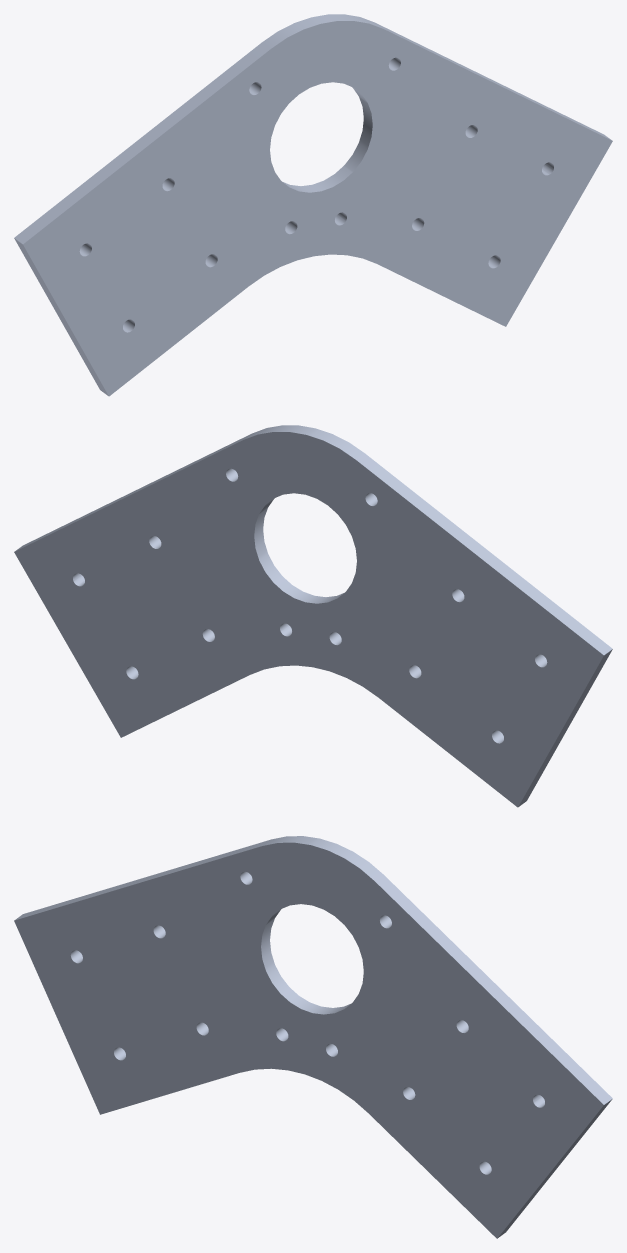
Rendered from Rocker_Connection_Plate_1_0_2.dae.
3 renders of one model, top to bottom at view 1: azimuth 30°, elevation 25°; view 2: azimuth 150°, elevation 25°; view 3: azimuth 330°, elevation 25°, orthographic.
Visible parts, largest first — view 1: node0; view 2: node0; view 3: node0.
Part boxes in pixels (bbox=[...]): node0: bbox=[14, 14, 612, 396]; node0: bbox=[14, 425, 612, 807]; node0: bbox=[14, 836, 612, 1238].
Bounding box in the file's own units: 0.241 × 0.136 × 0.00635.
